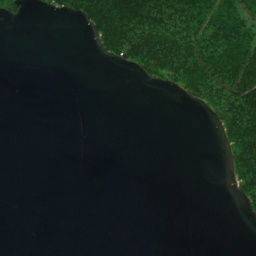Marine Debris: (75, 104, 86, 157)
